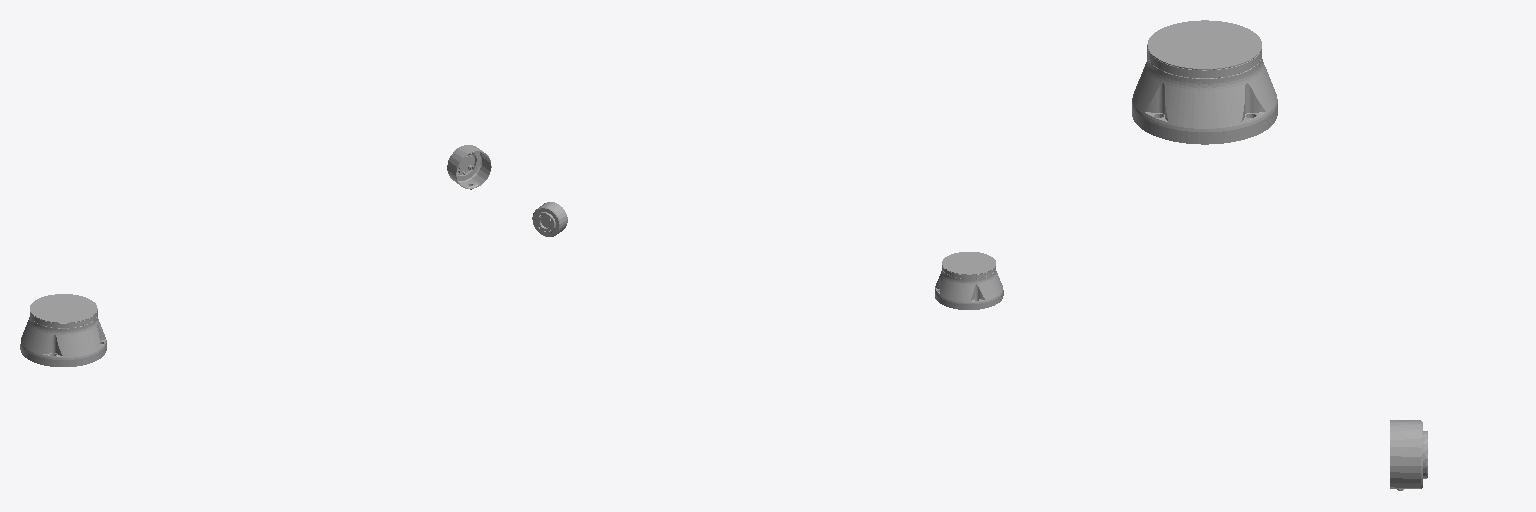
robot.urdf — ur10e:
<?xml version="1.0" ?>
<!-- =================================================================================== -->
<!-- |    This document was autogenerated by xacro from ur10e_robot.urdf.xacro         | -->
<!-- |    EDITING THIS FILE BY HAND IS NOT RECOMMENDED                                 | -->
<!-- =================================================================================== -->
<robot name="ur10e" xmlns:xacro="http://ros.org/wiki/xacro">
  <gazebo>
    <plugin filename="libgazebo_ros_control.so" name="ros_control">
      <!--robotNamespace>/</robotNamespace-->
      <!--robotSimType>gazebo_ros_control/DefaultRobotHWSim</robotSimType-->
    </plugin>
    <!--
    <plugin name="gazebo_ros_power_monitor_controller" filename="libgazebo_ros_power_monitor.so">
      <alwaysOn>true</alwaysOn>
      <updateRate>1.0</updateRate>
      <timeout>5</timeout>
      <powerStateTopic>power_state</powerStateTopic>
      <powerStateRate>10.0</powerStateRate>
      <fullChargeCapacity>87.78</fullChargeCapacity>     
      <dischargeRate>-474</dischargeRate>
      <chargeRate>525</chargeRate>
      <dischargeVoltage>15.52</dischargeVoltage>
      <chargeVoltage>16.41</chargeVoltage>
    </plugin>
-->
  </gazebo>
  <!--
  Author: [author]
  Contributers: [author], [author], [author]
-->
  <link name="base_link">
    <visual>
      <geometry>
        <mesh filename="package://ur_e_description/meshes/ur10e/visual/base.obj"/>
      </geometry>
      <material name="LightGrey">
        <color rgba="0.7 0.7 0.7 1.0"/>
      </material>
    </visual>
    <collision>
      <geometry>
        <mesh filename="package://ur_e_description/meshes/ur10e/collision/base.stl"/>
      </geometry>
    </collision>
    <inertial>
      <mass value="4.0"/>
      <origin rpy="0 0 0" xyz="0.0 0.0 0.0"/>
      <inertia ixx="0.0061063308908" ixy="0.0" ixz="0.0" iyy="0.0061063308908" iyz="0.0" izz="0.01125"/>
    </inertial>
  </link>
  <joint name="shoulder_pan_joint" type="revolute">
    <parent link="base_link"/>
    <child link="shoulder_link"/>
    <origin rpy="0.0 0.0 0.0" xyz="0.0 0.0 0.181"/>
    <axis xyz="0 0 1"/>
    <limit effort="330.0" lower="-6.28318530718" upper="6.28318530718" velocity="3.14"/>
    <dynamics damping="0.0" friction="0.0"/>
  </joint>
  <link name="shoulder_link">
    <visual>
      <geometry>
        <mesh filename="package://ur_e_description/meshes/ur10e/visual/shoulder.obj"/>
      </geometry>
      <material name="LightGrey">
        <color rgba="0.7 0.7 0.7 1.0"/>
      </material>
    </visual>
    <collision>
      <geometry>
        <mesh filename="package://ur_e_description/meshes/ur10e/collision/shoulder.stl"/>
      </geometry>
    </collision>
    <inertial>
      <mass value="7.778"/>
      <origin rpy="0 0 0" xyz="0.0 0.0 0.0"/>
      <inertia ixx="0.0314743125769" ixy="0.0" ixz="0.0" iyy="0.0314743125769" iyz="0.0" izz="0.021875625"/>
    </inertial>
  </link>
  <joint name="shoulder_lift_joint" type="revolute">
    <parent link="shoulder_link"/>
    <child link="upper_arm_link"/>
    <origin rpy="0.0 1.57079632679 0.0" xyz="0.0 0.176 0.0"/>
    <axis xyz="0 1 0"/>
    <limit effort="330.0" lower="-6.28318530718" upper="6.28318530718" velocity="3.14"/>
    <dynamics damping="0.0" friction="0.0"/>
  </joint>
  <link name="upper_arm_link">
    <visual>
      <geometry>
        <mesh filename="package://ur_e_description/meshes/ur10e/visual/upperarm.obj"/>
      </geometry>
      <material name="LightGrey">
        <color rgba="0.7 0.7 0.7 1.0"/>
      </material>
    </visual>
    <collision>
      <geometry>
        <mesh filename="package://ur_e_description/meshes/ur10e/collision/upperarm.stl"/>
      </geometry>
    </collision>
    <inertial>
      <mass value="12.93"/>
      <origin rpy="0 0 0" xyz="0.0 0.0 0.3065"/>
      <inertia ixx="0.42307374077" ixy="0.0" ixz="0.0" iyy="0.42307374077" iyz="0.0" izz="0.036365625"/>
    </inertial>
  </link>
  <joint name="elbow_joint" type="revolute">
    <parent link="upper_arm_link"/>
    <child link="forearm_link"/>
    <origin rpy="0.0 0.0 0.0" xyz="0.0 -0.137 0.613"/>
    <axis xyz="0 1 0"/>
    <limit effort="150.0" lower="-3.14159265359" upper="3.14159265359" velocity="3.14"/>
    <dynamics damping="0.0" friction="0.0"/>
  </joint>
  <link name="forearm_link">
    <visual>
      <geometry>
        <mesh filename="package://ur_e_description/meshes/ur10e/visual/forearm.obj"/>
      </geometry>
      <material name="LightGrey">
        <color rgba="0.7 0.7 0.7 1.0"/>
      </material>
    </visual>
    <collision>
      <geometry>
        <mesh filename="package://ur_e_description/meshes/ur10e/collision/forearm.stl"/>
      </geometry>
    </collision>
    <inertial>
      <mass value="3.87"/>
      <origin rpy="0 0 0" xyz="0.0 0.0 0.2855"/>
      <inertia ixx="0.110590365764" ixy="0.0" ixz="0.0" iyy="0.110590365764" iyz="0.0" izz="0.010884375"/>
    </inertial>
  </link>
  <joint name="wrist_1_joint" type="revolute">
    <parent link="forearm_link"/>
    <child link="wrist_1_link"/>
    <origin rpy="0.0 1.57079632679 0.0" xyz="0.0 0.0 0.571"/>
    <axis xyz="0 1 0"/>
    <limit effort="54.0" lower="-6.28318530718" upper="6.28318530718" velocity="6.28"/>
    <dynamics damping="0.0" friction="0.0"/>
  </joint>
  <link name="wrist_1_link">
    <visual>
      <geometry>
        <mesh filename="package://ur_e_description/meshes/ur10e/visual/wrist1.obj"/>
      </geometry>
      <material name="LightGrey">
        <color rgba="0.7 0.7 0.7 1.0"/>
      </material>
    </visual>
    <collision>
      <geometry>
        <mesh filename="package://ur_e_description/meshes/ur10e/collision/wrist1.stl"/>
      </geometry>
    </collision>
    <inertial>
      <mass value="1.96"/>
      <origin rpy="0 0 0" xyz="0.0 0.135 0.0"/>
      <inertia ixx="0.0051082479567" ixy="0.0" ixz="0.0" iyy="0.0051082479567" iyz="0.0" izz="0.0055125"/>
    </inertial>
  </link>
  <joint name="wrist_2_joint" type="revolute">
    <parent link="wrist_1_link"/>
    <child link="wrist_2_link"/>
    <origin rpy="0.0 0.0 0.0" xyz="0.0 0.135 0.0"/>
    <axis xyz="0 0 1"/>
    <limit effort="54.0" lower="-6.28318530718" upper="6.28318530718" velocity="6.28"/>
    <dynamics damping="0.0" friction="0.0"/>
  </joint>
  <link name="wrist_2_link">
    <visual>
      <geometry>
        <mesh filename="package://ur_e_description/meshes/ur10e/visual/wrist2.obj"/>
      </geometry>
      <material name="LightGrey">
        <color rgba="0.7 0.7 0.7 1.0"/>
      </material>
    </visual>
    <collision>
      <geometry>
        <mesh filename="package://ur_e_description/meshes/ur10e/collision/wrist2.stl"/>
      </geometry>
    </collision>
    <inertial>
      <mass value="1.96"/>
      <origin rpy="0 0 0" xyz="0.0 0.0 0.12"/>
      <inertia ixx="0.0051082479567" ixy="0.0" ixz="0.0" iyy="0.0051082479567" iyz="0.0" izz="0.0055125"/>
    </inertial>
  </link>
  <joint name="wrist_3_joint" type="revolute">
    <parent link="wrist_2_link"/>
    <child link="wrist_3_link"/>
    <origin rpy="0.0 0.0 0.0" xyz="0.0 0.0 0.12"/>
    <axis xyz="0 1 0"/>
    <limit effort="54.0" lower="-6.28318530718" upper="6.28318530718" velocity="6.28"/>
    <dynamics damping="0.0" friction="0.0"/>
  </joint>
  <link name="wrist_3_link">
    <visual>
      <geometry>
        <mesh filename="package://ur_e_description/meshes/ur10e/visual/wrist3.obj"/>
      </geometry>
      <material name="LightGrey">
        <color rgba="0.7 0.7 0.7 1.0"/>
      </material>
    </visual>
    <collision>
      <geometry>
        <mesh filename="package://ur_e_description/meshes/ur10e/collision/wrist3.stl"/>
      </geometry>
    </collision>
    <inertial>
      <mass value="0.202"/>
      <origin rpy="1.57079632679 0 0" xyz="0.0 0.092 0.0"/>
      <inertia ixx="0.000144345775595" ixy="0.0" ixz="0.0" iyy="0.000144345775595" iyz="0.0" izz="0.000204525"/>
    </inertial>
  </link>
  <joint name="ee_fixed_joint" type="fixed">
    <parent link="wrist_3_link"/>
    <child link="ee_link"/>
    <origin rpy="0.0 0.0 1.57079632679" xyz="0.0 0.117 0.0"/>
  </joint>
  <link name="ee_link">
    <collision>
      <geometry>
        <box size="0.01 0.01 0.01"/>
      </geometry>
      <origin rpy="0 0 0" xyz="-0.01 0 0"/>
    </collision>
  </link>
  <transmission name="shoulder_pan_trans">
    <type>transmission_interface/SimpleTransmission</type>
    <joint name="shoulder_pan_joint">
      <hardwareInterface>hardware_interface/PositionJointInterface</hardwareInterface>
    </joint>
    <actuator name="shoulder_pan_motor">
      <mechanicalReduction>1</mechanicalReduction>
    </actuator>
  </transmission>
  <transmission name="shoulder_lift_trans">
    <type>transmission_interface/SimpleTransmission</type>
    <joint name="shoulder_lift_joint">
      <hardwareInterface>hardware_interface/PositionJointInterface</hardwareInterface>
    </joint>
    <actuator name="shoulder_lift_motor">
      <mechanicalReduction>1</mechanicalReduction>
    </actuator>
  </transmission>
  <transmission name="elbow_trans">
    <type>transmission_interface/SimpleTransmission</type>
    <joint name="elbow_joint">
      <hardwareInterface>hardware_interface/PositionJointInterface</hardwareInterface>
    </joint>
    <actuator name="elbow_motor">
      <mechanicalReduction>1</mechanicalReduction>
    </actuator>
  </transmission>
  <transmission name="wrist_1_trans">
    <type>transmission_interface/SimpleTransmission</type>
    <joint name="wrist_1_joint">
      <hardwareInterface>hardware_interface/PositionJointInterface</hardwareInterface>
    </joint>
    <actuator name="wrist_1_motor">
      <mechanicalReduction>1</mechanicalReduction>
    </actuator>
  </transmission>
  <transmission name="wrist_2_trans">
    <type>transmission_interface/SimpleTransmission</type>
    <joint name="wrist_2_joint">
      <hardwareInterface>hardware_interface/PositionJointInterface</hardwareInterface>
    </joint>
    <actuator name="wrist_2_motor">
      <mechanicalReduction>1</mechanicalReduction>
    </actuator>
  </transmission>
  <transmission name="wrist_3_trans">
    <type>transmission_interface/SimpleTransmission</type>
    <joint name="wrist_3_joint">
      <hardwareInterface>hardware_interface/PositionJointInterface</hardwareInterface>
    </joint>
    <actuator name="wrist_3_motor">
      <mechanicalReduction>1</mechanicalReduction>
    </actuator>
  </transmission>
  <gazebo reference="shoulder_link">
    <selfCollide>true</selfCollide>
  </gazebo>
  <gazebo reference="upper_arm_link">
    <selfCollide>true</selfCollide>
  </gazebo>
  <gazebo reference="forearm_link">
    <selfCollide>true</selfCollide>
  </gazebo>
  <gazebo reference="wrist_1_link">
    <selfCollide>true</selfCollide>
  </gazebo>
  <gazebo reference="wrist_3_link">
    <selfCollide>true</selfCollide>
  </gazebo>
  <gazebo reference="wrist_2_link">
    <selfCollide>true</selfCollide>
  </gazebo>
  <gazebo reference="ee_link">
    <selfCollide>true</selfCollide>
  </gazebo>
  <!-- ROS base_link to UR 'Base' Coordinates transform -->
  <link name="base"/>
  <joint name="base_link-base_fixed_joint" type="fixed">
    <!-- NOTE: this rotation is only needed as long as base_link itself is
                 not corrected wrt the real robot (ie: rotated over 180
                 degrees)
      -->
    <origin rpy="0 0 -3.14159265359" xyz="0 0 0"/>
    <parent link="base_link"/>
    <child link="base"/>
  </joint>
  <!-- Frame coincident with all-zeros TCP on UR controller -->
  <link name="tool0"/>
  <joint name="wrist_3_link-tool0_fixed_joint" type="fixed">
    <origin rpy="-1.57079632679 0 0" xyz="0 0.117 0"/>
    <parent link="wrist_3_link"/>
    <child link="tool0"/>
  </joint>
  <link name="world"/>
  <joint name="world_joint" type="fixed">
    <parent link="world"/>
    <child link="base_link"/>
    <origin rpy="0.0 0.0 0.0" xyz="0.0 0.0 0.0"/>
  </joint>
</robot>

--- Facts derived from the render (not from the file) ---
3 views of the same robot in one strip: view 1: azimuth 30°, elevation 25°; view 2: azimuth 150°, elevation 25°; view 3: azimuth 270°, elevation 25° (orthographic).
Robot: ur10e — 11 links, 10 joints (6 revolute, 4 fixed); root link world; default pose: every joint at zero.
Links seen in each view (by area): view 1: base_link, wrist_3_link; view 2: base_link, wrist_3_link; view 3: base_link, wrist_3_link.
Link boxes in pixels (x1=…): base_link: x1=20, y1=294, x2=106, y2=366; wrist_3_link: x1=447, y1=145, x2=491, y2=189; base_link: x1=935, y1=252, x2=1003, y2=309; wrist_3_link: x1=532, y1=202, x2=567, y2=236; base_link: x1=1132, y1=20, x2=1277, y2=144; wrist_3_link: x1=1390, y1=420, x2=1427, y2=490.
Bounding box of the posed robot: 1.32 × 0.3858 × 0.1065 m (x, y, z).
2 mesh visuals loaded from 7 distinct referenced files (2 OBJ); not drawn: 5 (reference not matched to a file when rendering).